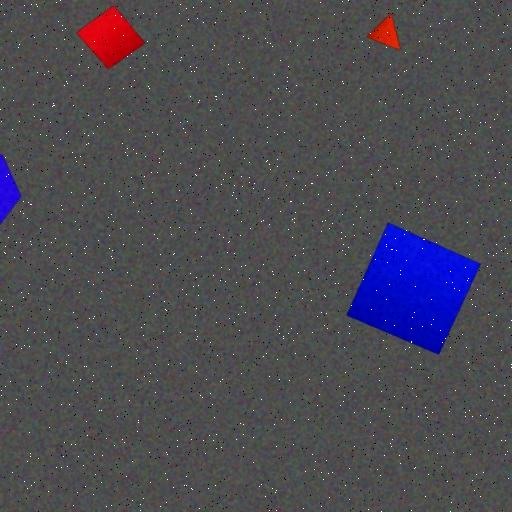BLUE_SQUARE: (346, 222, 482, 356)
RED_SQUARE: (76, 4, 146, 70)
